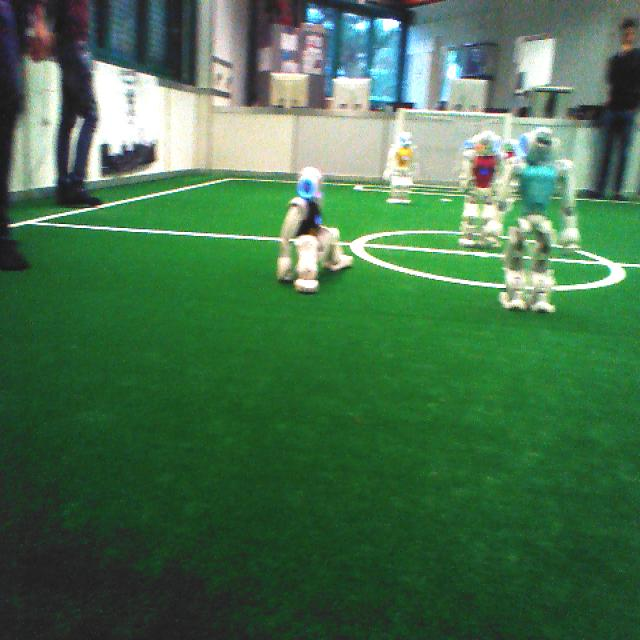goalpost: (393, 107, 406, 144), (503, 112, 513, 141)
